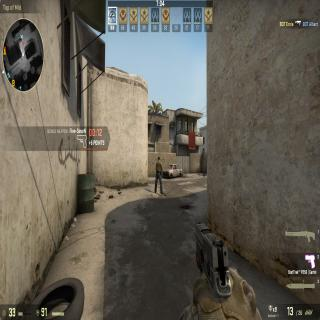T-Body: (154, 156, 163, 194)
T-Head: (157, 156, 161, 163)
